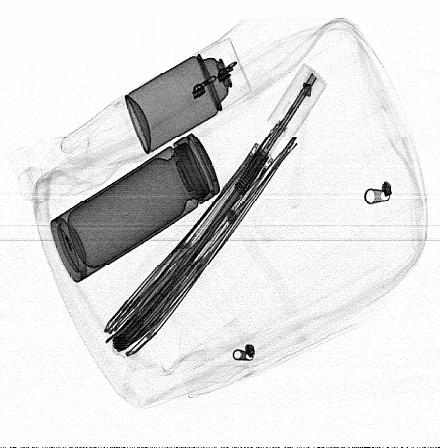Sprayer: (124, 38, 252, 154)
